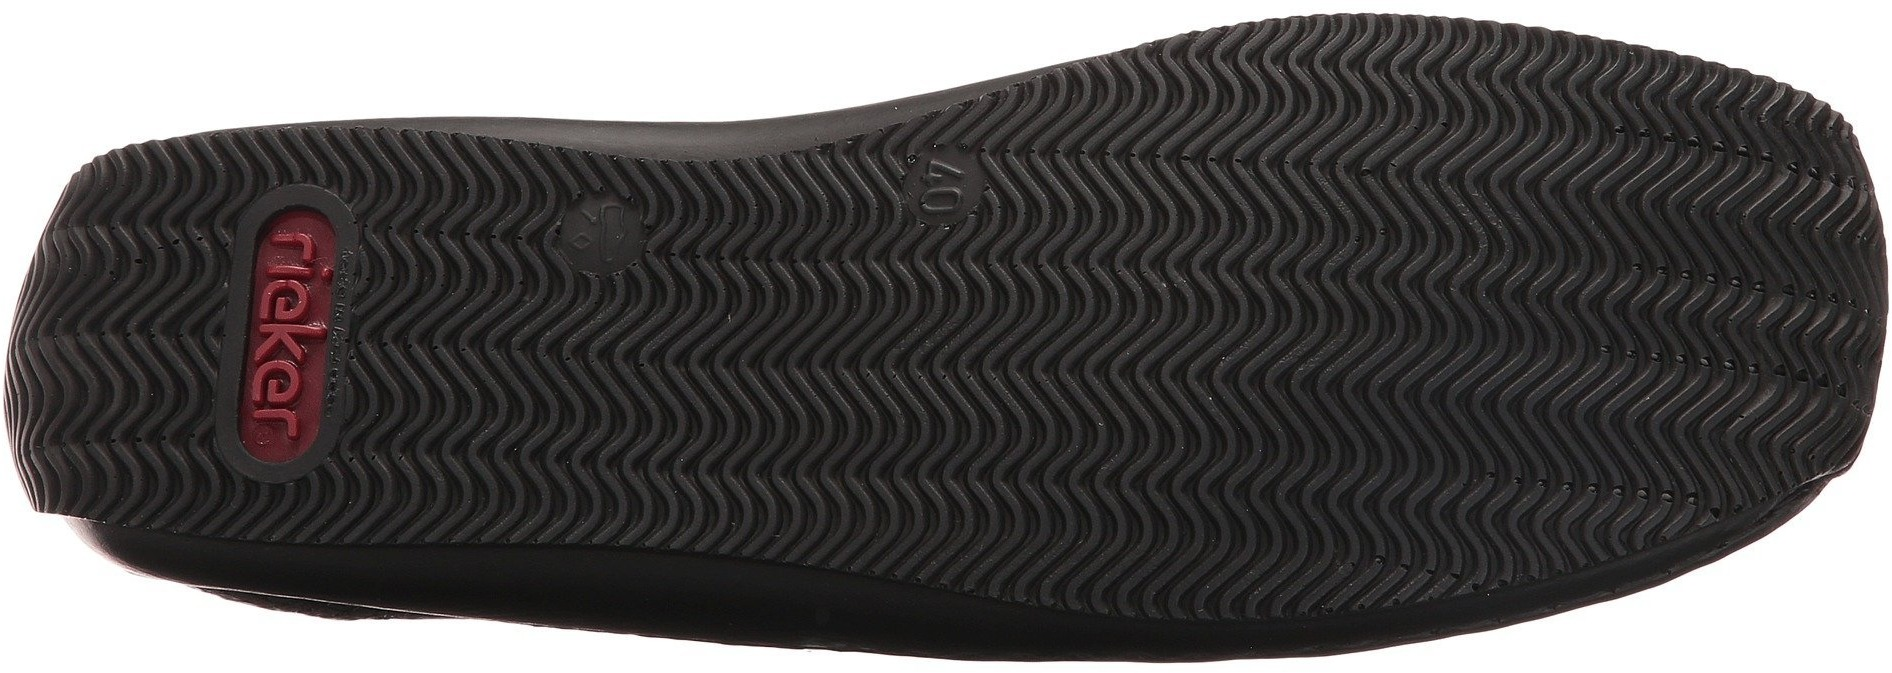chevron: (991, 265, 1348, 592), (649, 248, 983, 551), (1348, 112, 1662, 402), (367, 271, 646, 554), (1668, 179, 1878, 391), (1067, 68, 1274, 275), (37, 252, 227, 466), (1368, 410, 1552, 590), (354, 133, 489, 254)
text: (238, 238, 343, 339), (247, 344, 334, 431), (897, 147, 979, 226)
